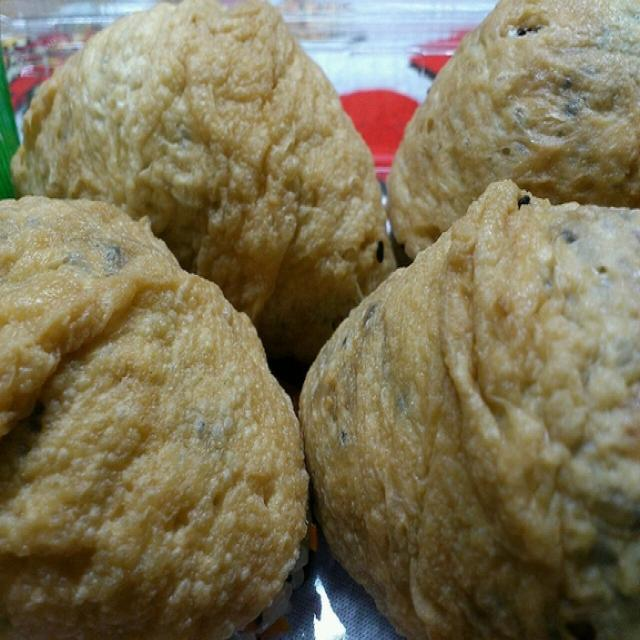寿司卷物: (10, 7, 618, 621)
